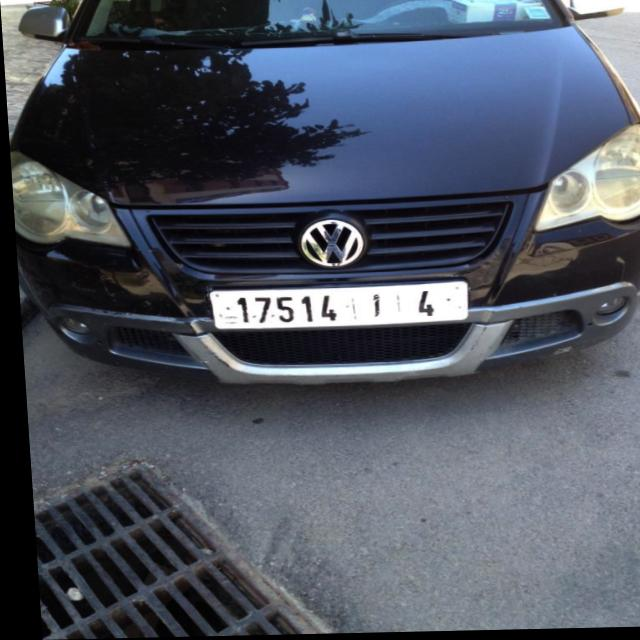License-Plate: (206, 282, 464, 331)
